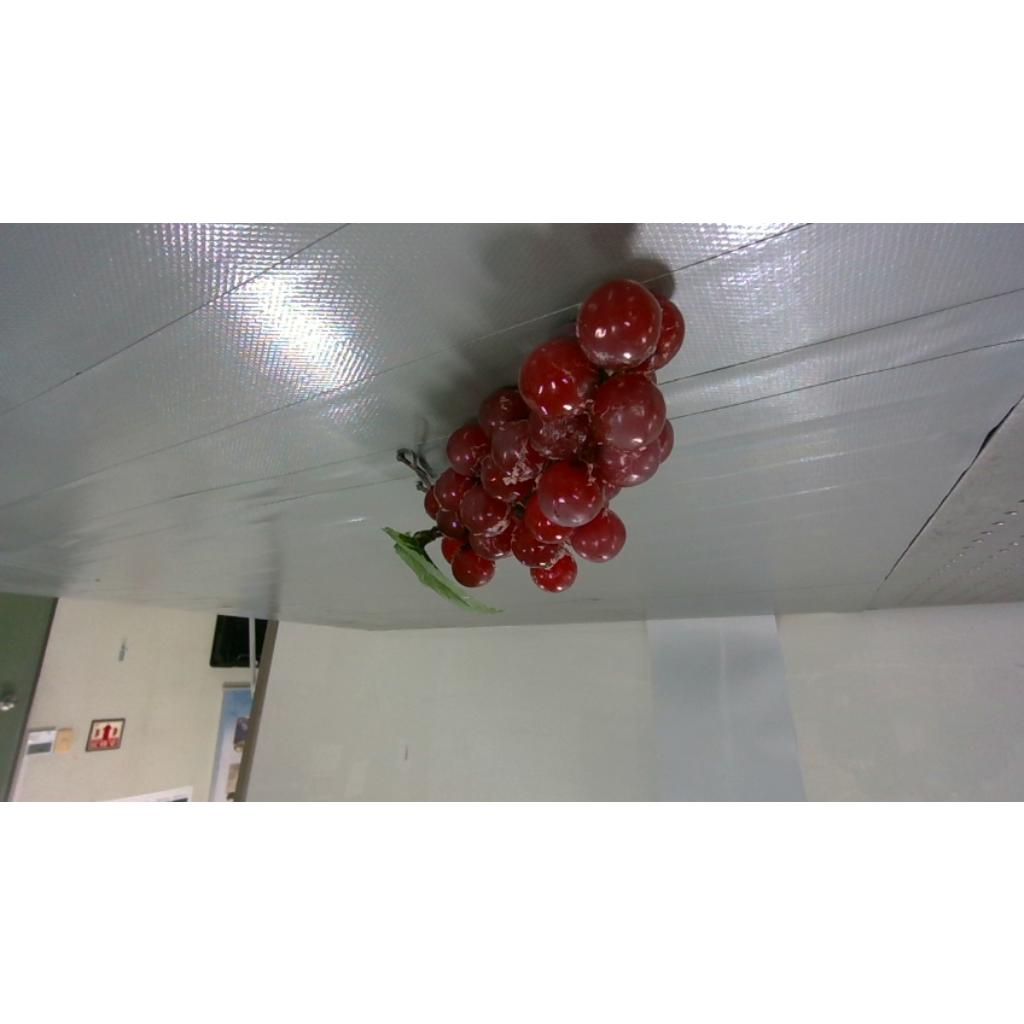grape: (387, 278, 684, 611)
